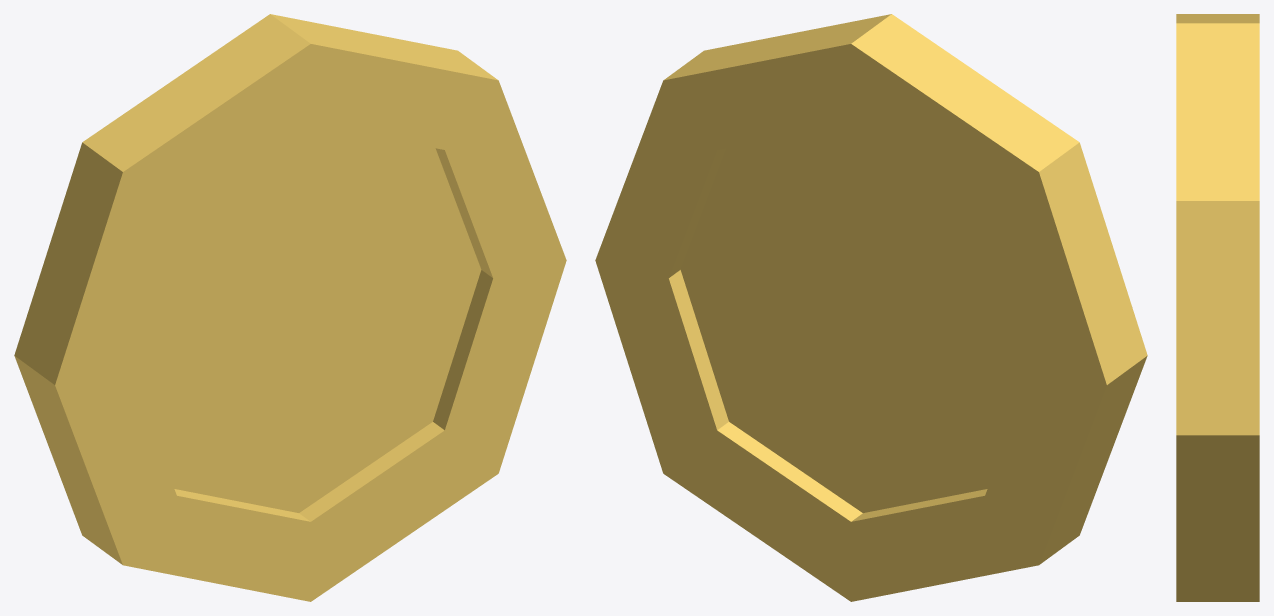
File: coin.dae
3 views of the same model, side by side, from view 1: azimuth 30°, elevation 25°; view 2: azimuth 150°, elevation 25°; view 3: azimuth 270°, elevation 25° (orthographic).
Parts seen in each view (by area): view 1: coin; view 2: coin; view 3: coin.
Part boxes in pixels (x1,y1,x2,y2): coin: (14,14,566,601); coin: (595,14,1147,601); coin: (1176,14,1259,601).
Bounding box in the file's own units: 0.2676 × 0.2789 × 0.0369.
1 material, 1 textured.
